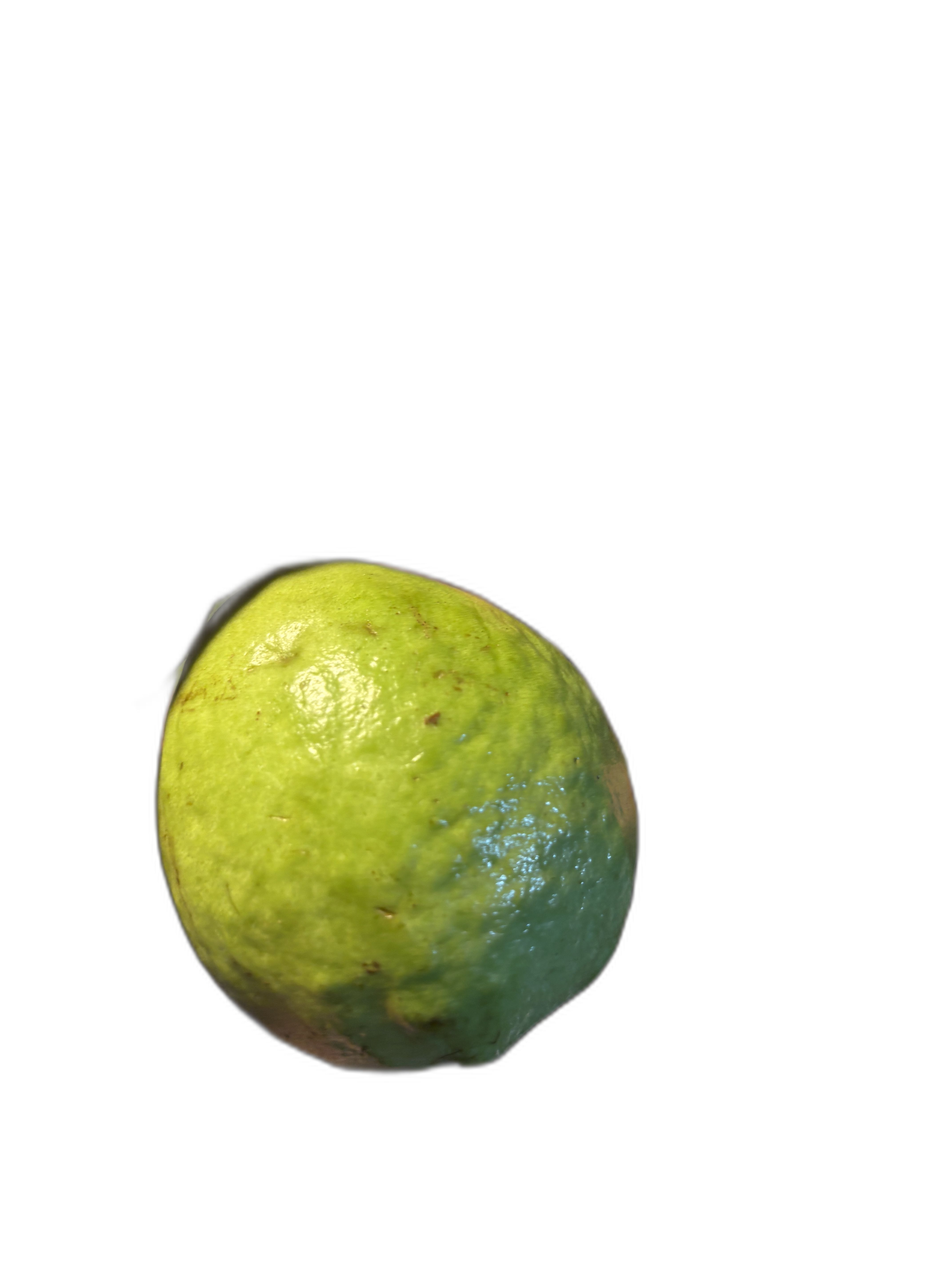guava: (7, 345, 849, 1164)
